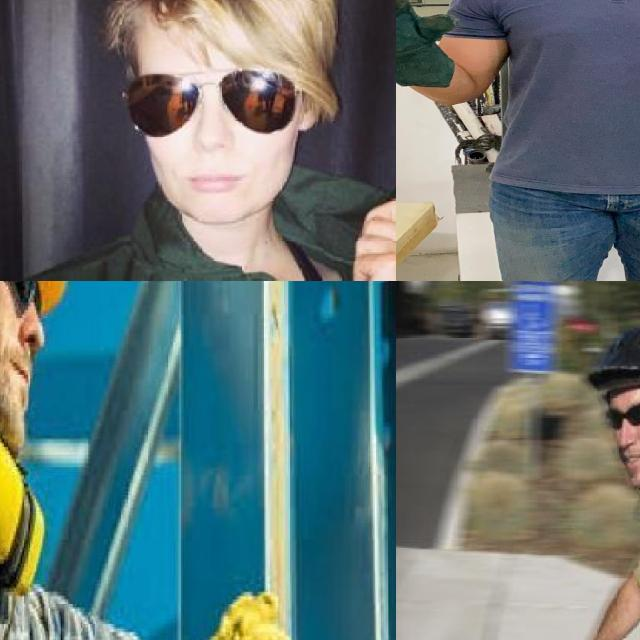face_nomask: (135, 64, 282, 199), (0, 281, 43, 454), (596, 397, 640, 478)
glasses: (118, 62, 318, 136), (603, 396, 640, 428), (5, 281, 40, 309)
hand_glove: (581, 320, 640, 399), (396, 0, 466, 65)
hand_noglove: (343, 191, 396, 281)
head_nohelmet: (104, 0, 328, 45)
person: (0, 0, 396, 281), (417, 0, 640, 281), (546, 324, 640, 640)
